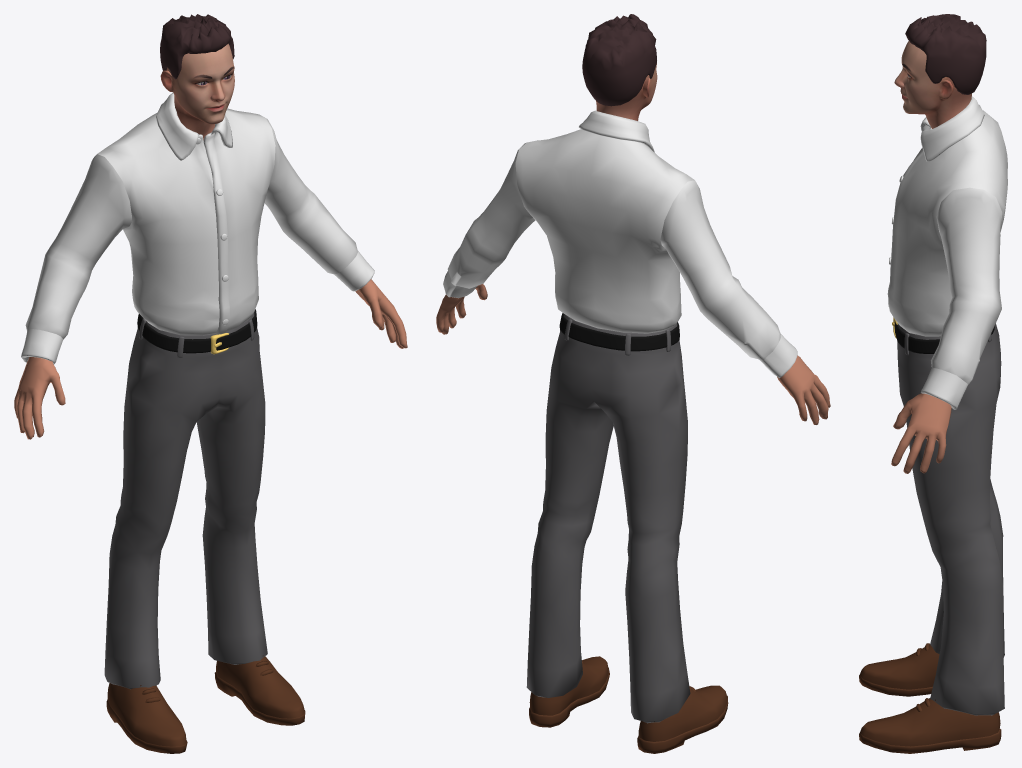
File: character.glb
3 views of the same model, side by side, from view 1: azimuth 30°, elevation 25°; view 2: azimuth 150°, elevation 25°; view 3: azimuth 270°, elevation 25° (orthographic).
Parts seen in each view (by area): view 1: shirt, pants, boots, head, hands, belt; view 2: pants, shirt, head, boots, hands, belt; view 3: shirt, pants, boots, head, hands, belt.
Part boxes in pixels (x1,y1,x2,y2): shirt: (21,92,374,364); pants: (104,311,267,689); boots: (106,655,305,753); head: (160,14,234,140); hands: (14,279,407,439); belt: (137,309,257,354); pants: (526,314,690,723); shirt: (443,110,797,377); head: (582,14,657,120); boots: (529,656,728,753); hands: (436,284,830,424); belt: (559,313,679,351); shirt: (887,96,1007,409); pants: (897,323,1004,715); boots: (859,643,1001,753); head: (894,14,986,128); hands: (891,393,951,473); belt: (892,317,994,353).
Size of the model in its own units: 1.06 by 1.86 by 0.3595.
Materials: 10 (5 with a texture image).
